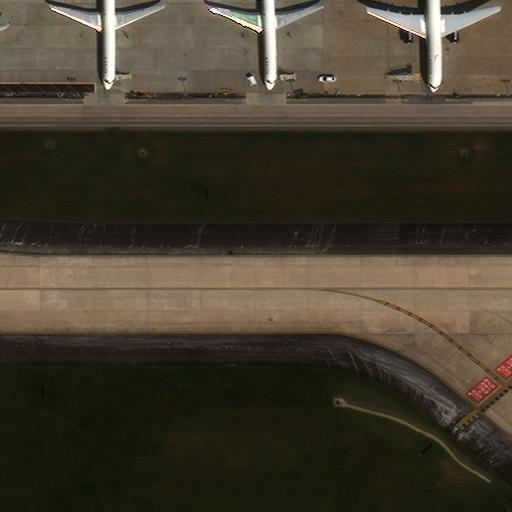Large Civil Transport: (366, 0, 500, 92)
Medium Civil Transport: (209, 0, 323, 91), (50, 0, 162, 91)
